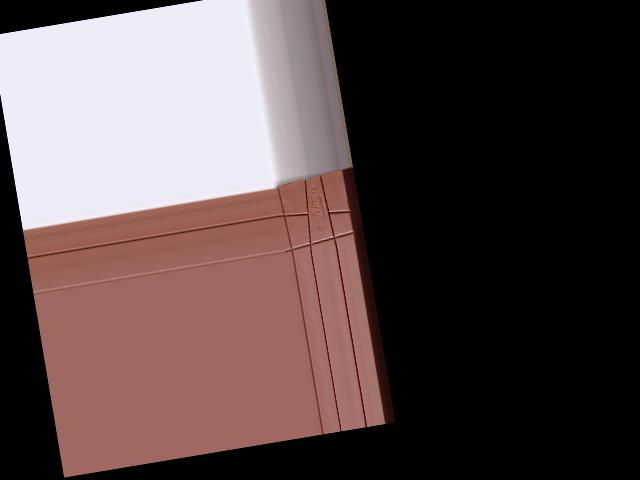chocolate: (273, 167, 359, 256)
